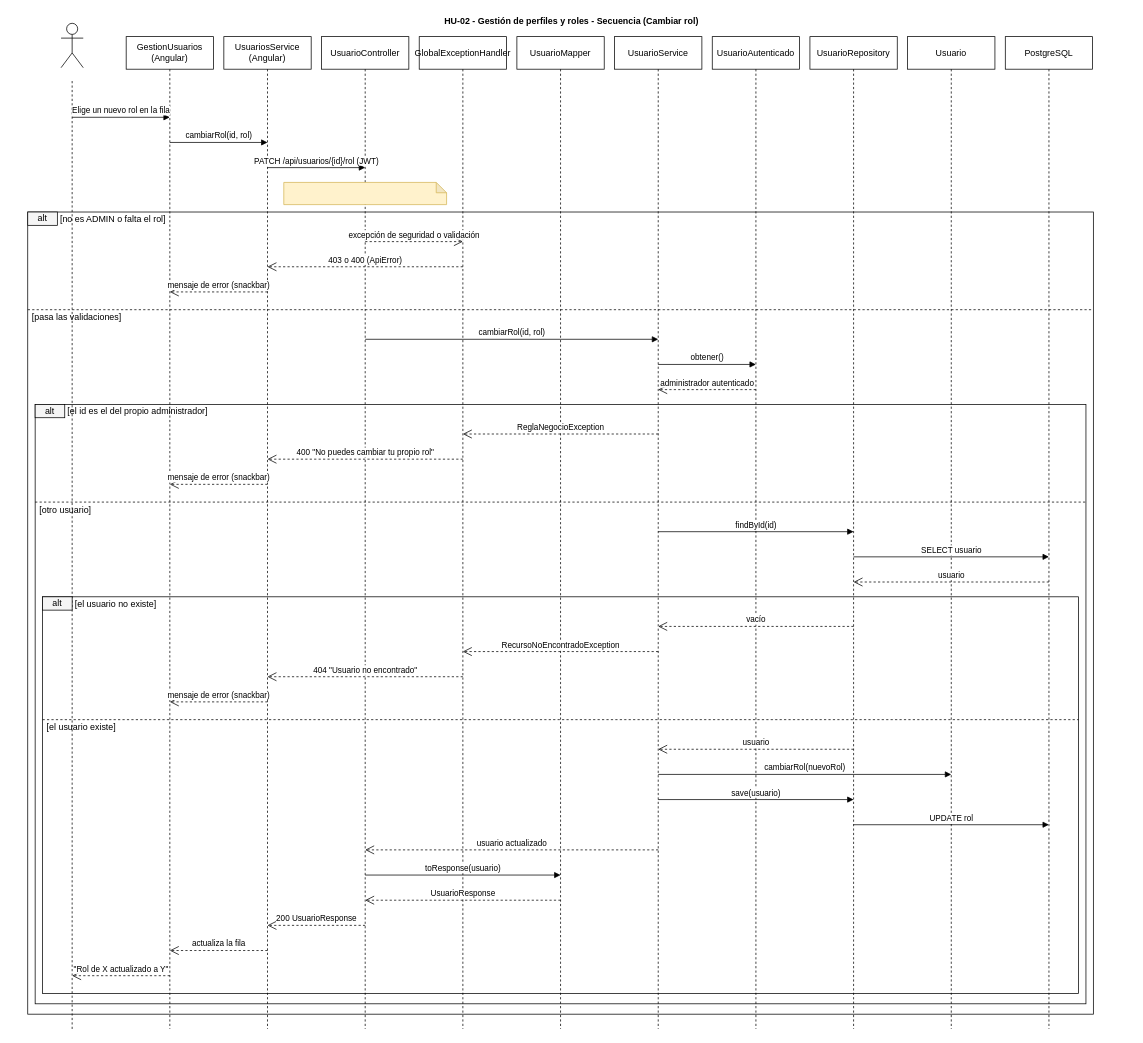
Some shapes in this 1143 by 1043 pixel diagram are drawn without their labels. Each missing label, with the centre of its shape:
@PreAuthorize hasRole('ADMIN') y @Valid: point (365, 193)
Administrador: point (71, 45)
